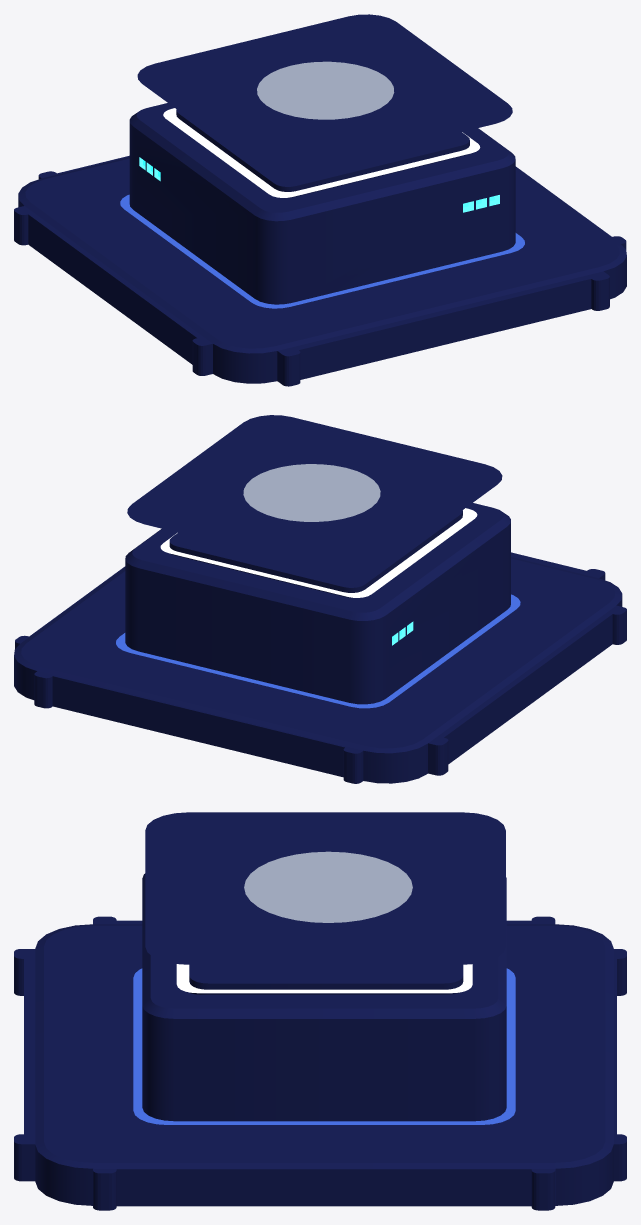
File: Work_stuff_9.glb
The picture shows the model from 3 angles, top to bottom: view 1: azimuth 30°, elevation 25°; view 2: azimuth 150°, elevation 25°; view 3: azimuth 270°, elevation 25°; orthographic projection. The views are drawn at different scales.
Visible parts, largest first — view 1: Main_platform.001, Main_platform, Suppourt, Platform, Cube.001, Cube.003, a.001, Main_platform.005, Main_platform.007, Main_platform.008; view 2: Main_platform.001, Main_platform, Suppourt, Platform, Cube.002, Cube.003, a.001, Main_platform.005, Main_platform.008, Main_platform.007, Cube.001; view 3: Main_platform, Main_platform.001, Suppourt, Platform, Cube.004, a.001, Main_platform.005, Main_platform.008, Cube.001, Main_platform.007, Cube.002, Cube.003.
Boxes of the visible parts, bbox=[...] form: Main_platform.001: bbox=[129, 103, 515, 304]; Main_platform: bbox=[18, 157, 626, 383]; Suppourt: bbox=[188, 35, 456, 148]; Platform: bbox=[137, 14, 512, 172]; Cube.001: bbox=[277, 271, 609, 386]; Cube.003: bbox=[14, 206, 212, 375]; a.001: bbox=[257, 61, 393, 119]; Main_platform.005: bbox=[176, 109, 469, 198]; Main_platform.007: bbox=[163, 108, 480, 197]; Main_platform.008: bbox=[120, 194, 524, 308]; Main_platform.001: bbox=[125, 503, 510, 704]; Main_platform: bbox=[14, 557, 622, 783]; Suppourt: bbox=[180, 439, 447, 552]; Platform: bbox=[127, 415, 502, 573]; Cube.002: bbox=[34, 671, 363, 783]; Cube.003: bbox=[428, 605, 626, 775]; a.001: bbox=[243, 464, 380, 521]; Main_platform.005: bbox=[169, 510, 462, 597]; Main_platform.008: bbox=[116, 594, 520, 708]; Main_platform.007: bbox=[160, 508, 477, 597]; Cube.001: bbox=[511, 552, 605, 580]; Main_platform: bbox=[35, 924, 613, 1205]; Main_platform.001: bbox=[142, 873, 506, 1121]; Suppourt: bbox=[201, 833, 458, 941]; Platform: bbox=[145, 812, 505, 964]; Cube.004: bbox=[93, 1169, 555, 1210]; a.001: bbox=[244, 851, 412, 922]; Main_platform.005: bbox=[189, 964, 463, 994]; Main_platform.008: bbox=[133, 968, 515, 1124]; Cube.001: bbox=[14, 949, 35, 1181]; Main_platform.007: bbox=[176, 964, 472, 993]; Cube.002: bbox=[614, 949, 626, 1181]; Cube.003: bbox=[93, 916, 555, 924].
Bounding box in the file's own units: 9.59 × 3.47 × 9.67.
